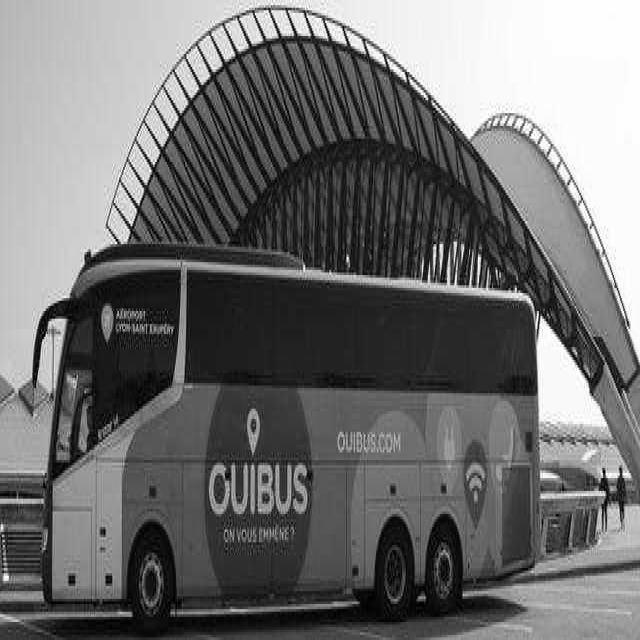Bus: (33, 235, 545, 639)
